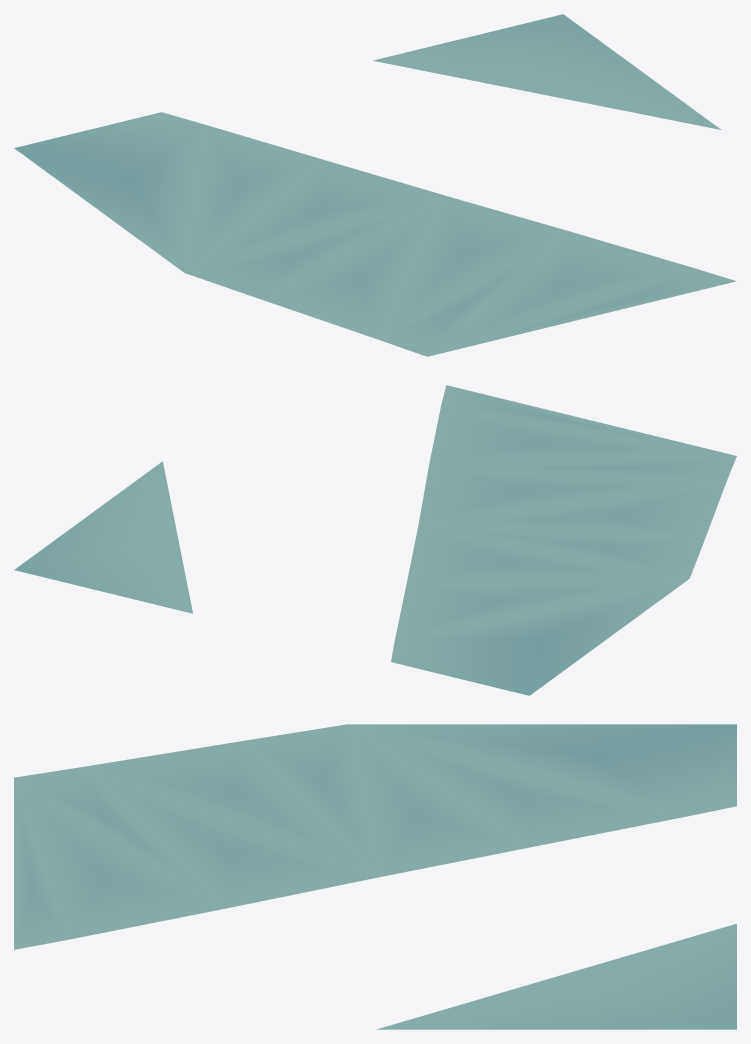
File: water-18-13.glb
The picture shows the model from 3 angles, top to bottom: view 1: azimuth 30°, elevation 25°; view 2: azimuth 150°, elevation 25°; view 3: azimuth 270°, elevation 25°; orthographic projection. The views are drawn at different scales.
Bounding box in the file's own units: 16 × 0 × 16.
